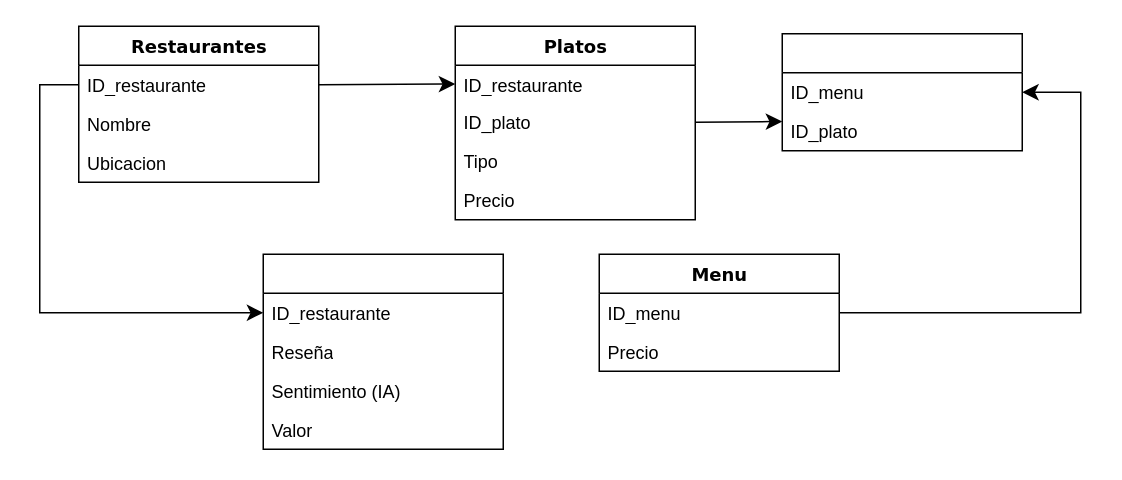
Some shapes in this 1122 by 480 pixel diagram are drawn without their labels. The box of each missing label's shape, as (x1, y1, x2, y2) in pixels:
Platos-menu: (781, 32, 1022, 151)
Reseñas: (262, 253, 503, 449)
